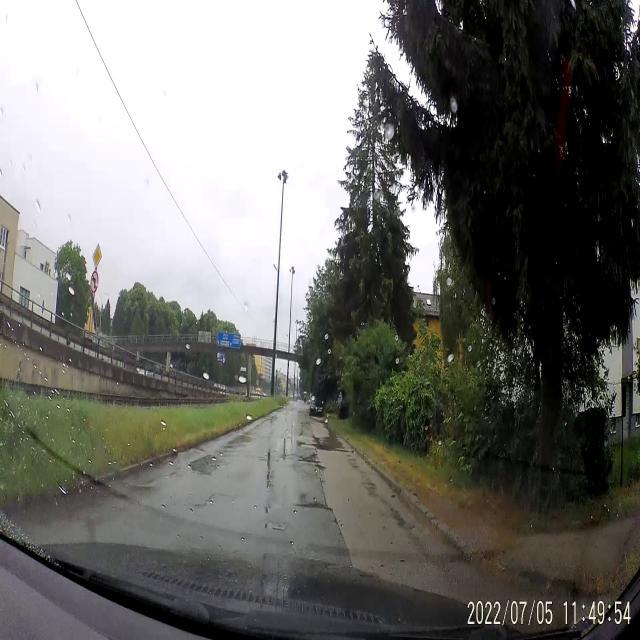Pothole: (290, 496, 336, 520), (186, 452, 222, 474), (296, 450, 328, 472), (359, 480, 378, 492)
